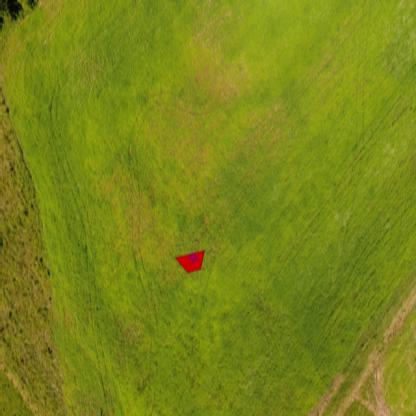B: (189, 251, 198, 264)
trapezium: (175, 249, 206, 274)
